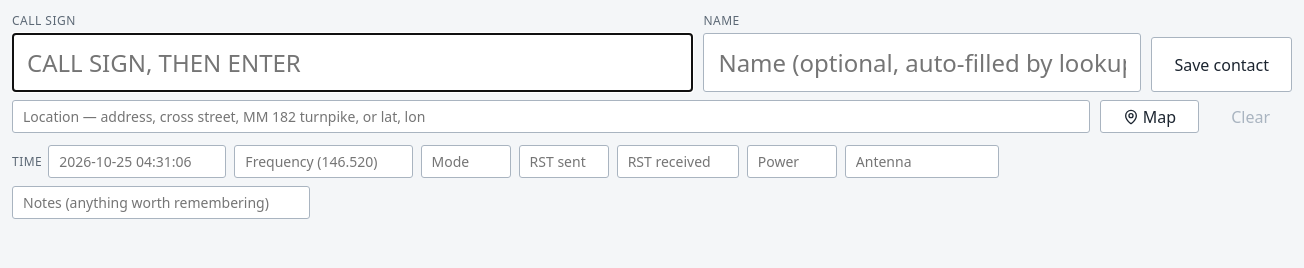
it: CheckinEntryForm in a station log › suggests a mode as it's typed; Tab takes the highlighted one and moves on
Type "f" into the dropdown labelled "Mode". click: (466, 162)
box: [420, 145, 511, 178]
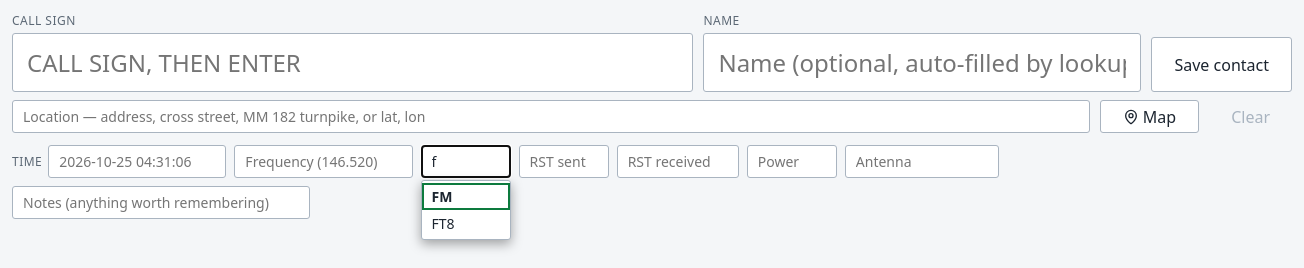
Expected: the options read "FM", "FT8", in this order, [432, 187, 452, 206]; [432, 214, 455, 233]
Press Tab
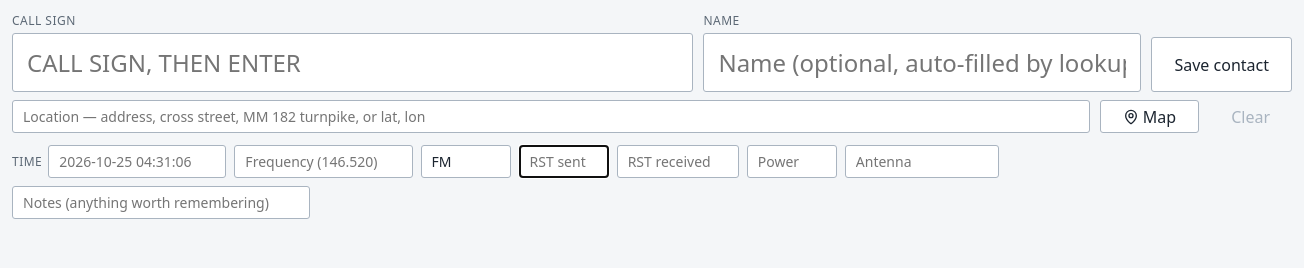
Expected: the dropdown named "Mode" holds "FM", [420, 145, 511, 178]
Expected: the list is gone
